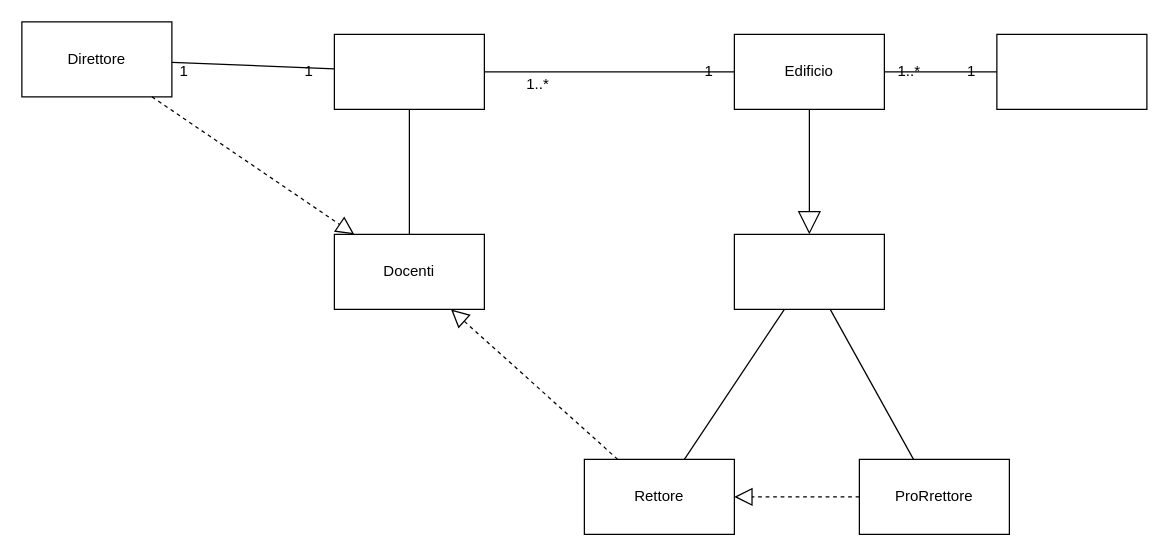
Some shapes in this 1169 by 556 pixel diagram are drawn without their labels. Here are the shapes that lost their labels. From the top down, the box of each, then its label:
(333, 33, 484, 109): Dipartimento
(996, 33, 1147, 109): Campus
(733, 233, 884, 309): Sede
